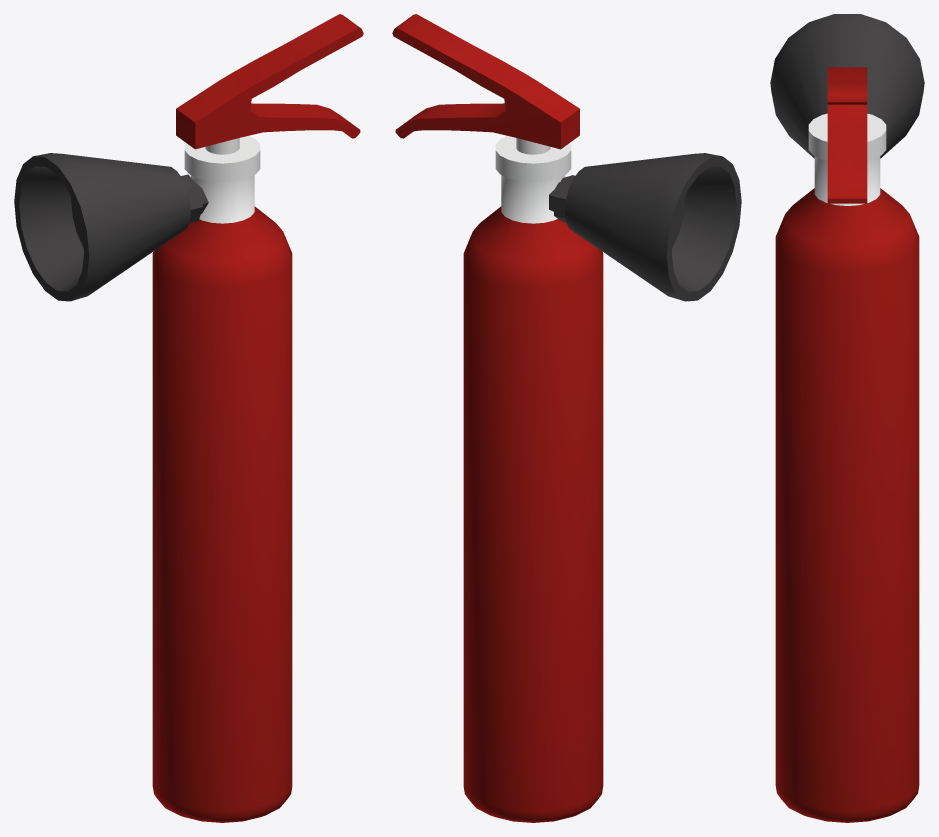
The model's file is Extincteur.FBX.
3 views of the same model, side by side, from view 1: azimuth 30°, elevation 25°; view 2: azimuth 150°, elevation 25°; view 3: azimuth 270°, elevation 25° (orthographic). The views are drawn at different scales.
Visible parts, largest first — view 1: Cylinder001; view 2: Cylinder001; view 3: Cylinder001.
Part boxes in pixels (box(x1,y1,x2,y2)): Cylinder001: box(14, 14, 363, 822); Cylinder001: box(392, 14, 741, 822); Cylinder001: box(770, 14, 924, 822).
Size of the model in its own units: 10.41 by 24.57 by 4.47.
Materials: 1 (1 with a texture image).
